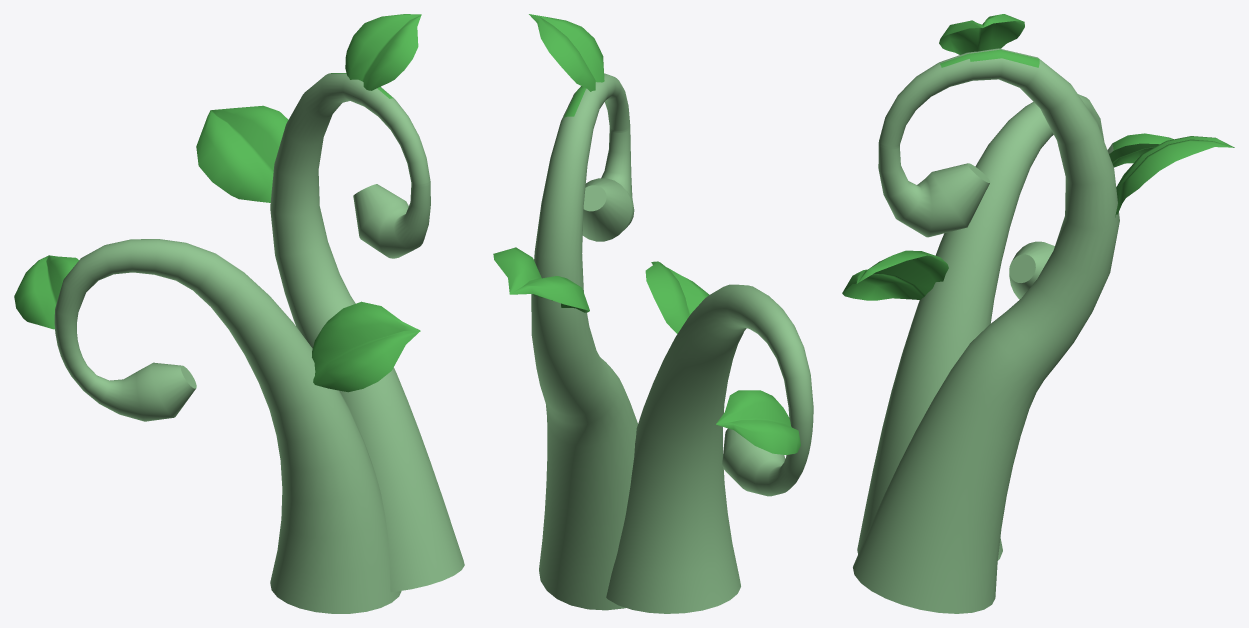
The model's file is magicGrass.fbx.
3 renders of one model, left to right at view 1: azimuth 30°, elevation 25°; view 2: azimuth 150°, elevation 25°; view 3: azimuth 270°, elevation 25°, orthographic. The views are drawn at different scales.
Visible parts, largest first — view 1: pasted__polySurface13; view 2: pasted__polySurface13; view 3: pasted__polySurface13.
Part boxes in pixels (x1=…): pasted__polySurface13: x1=14, y1=14, x2=464, y2=613; pasted__polySurface13: x1=493, y1=14, x2=813, y2=613; pasted__polySurface13: x1=842, y1=14, x2=1234, y2=613.
Size of the model in its own units: 2.25 by 3.5 by 2.09.
